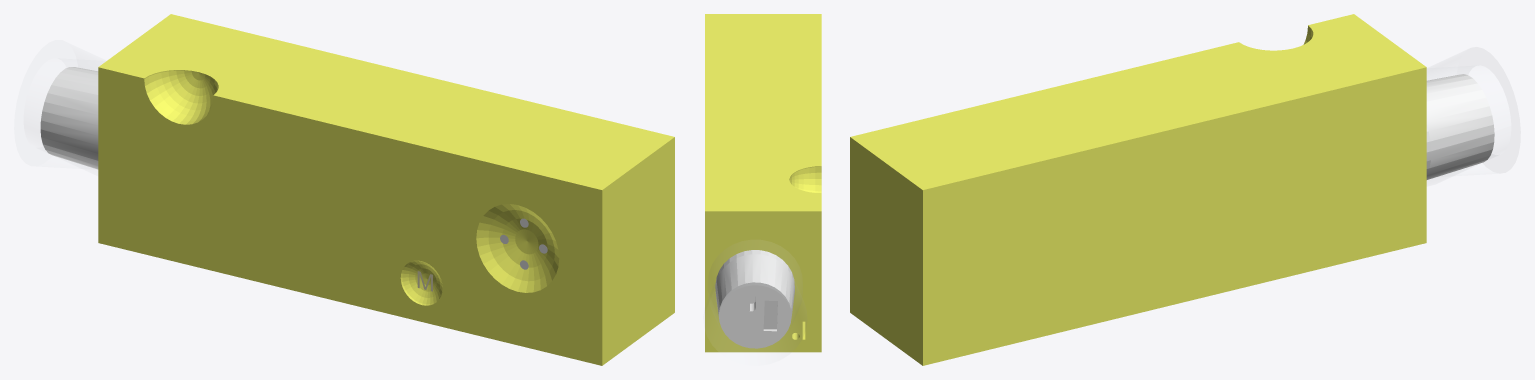
File: speaker.glb
3 renders of one model, left to right at view 1: azimuth 30°, elevation 25°; view 2: azimuth 150°, elevation 25°; view 3: azimuth 270°, elevation 25°, orthographic. The views are drawn at different scales.
Parts seen in each view (by area): view 1: Box005, Batterie002; view 2: Box005, Batterie002, Box003, ContourBat002; view 3: Box005, Batterie002.
Boxes of the visible parts, x1,y1,x2,y2 form: Box005: (98, 14, 674, 365); Batterie002: (40, 67, 98, 169); Box005: (705, 14, 821, 352); Batterie002: (715, 250, 794, 348); Box003: (763, 300, 777, 329); ContourBat002: (709, 284, 801, 324); Box005: (850, 14, 1426, 365); Batterie002: (1426, 74, 1494, 179).
Size of the model in its own units: 26.32 by 11.21 by 38.77.
